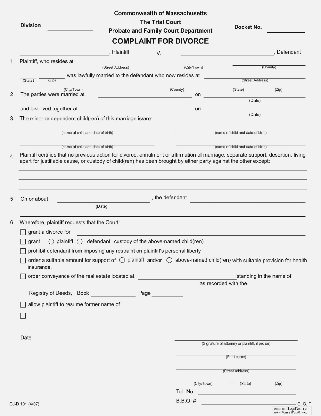checkbox: (119, 256, 126, 264), (166, 256, 173, 264), (20, 229, 27, 236), (48, 238, 55, 245), (76, 238, 83, 245), (20, 247, 26, 255), (20, 238, 26, 245), (20, 257, 26, 264), (20, 273, 26, 280), (20, 301, 26, 308), (20, 312, 26, 319)
textline: (18, 174, 308, 181), (19, 211, 306, 218), (28, 313, 307, 320), (18, 165, 308, 171), (18, 184, 308, 190), (75, 231, 307, 237), (123, 302, 307, 309), (29, 282, 198, 289), (173, 139, 307, 147), (173, 334, 299, 342), (19, 125, 155, 132), (19, 140, 155, 147), (173, 126, 307, 133), (180, 48, 275, 57), (176, 349, 297, 356), (176, 363, 297, 370), (203, 72, 307, 80), (189, 197, 307, 204), (79, 106, 193, 113), (20, 82, 127, 89), (203, 106, 307, 113), (197, 389, 297, 396), (128, 82, 226, 89), (55, 197, 151, 204), (201, 398, 297, 405), (19, 49, 110, 56), (203, 93, 306, 99), (137, 275, 238, 281), (232, 59, 307, 67), (98, 93, 195, 99), (76, 60, 155, 67), (33, 335, 111, 342), (156, 60, 231, 67), (248, 282, 307, 289), (251, 82, 306, 89), (176, 376, 231, 383), (47, 25, 95, 32), (90, 291, 137, 297), (266, 26, 306, 33), (261, 376, 297, 383), (38, 72, 66, 80), (232, 376, 259, 383), (151, 292, 184, 297), (228, 83, 250, 89), (19, 73, 37, 80)
